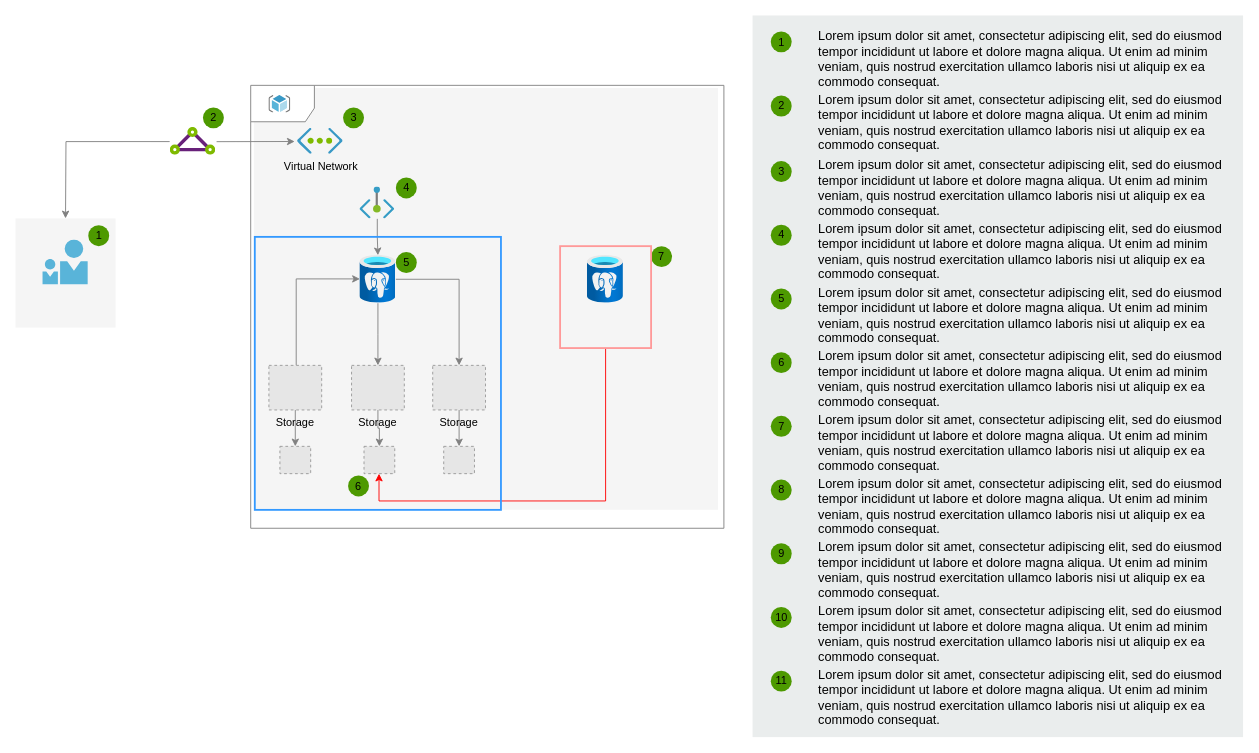
This 1259x753 diagram has some shape labels left out. Grey dashed boxes stand in for pictures. The box of each missing label's shape, as (x1, y1, x2, y2) in pixels:
Active: (359, 255, 395, 303)
DR: (587, 255, 623, 303)
Express Route: (170, 127, 215, 155)
On-Premises Users: (42, 240, 88, 285)
